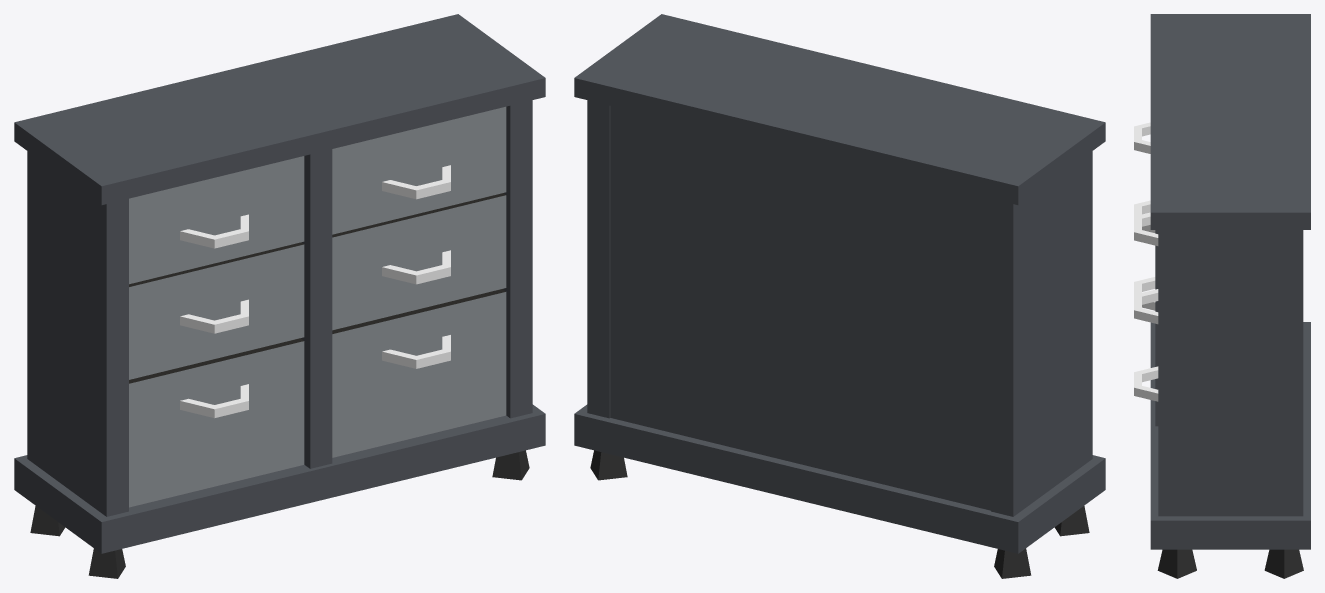
The model's file is Drawer_1C.fbx.
3 views of the same model, side by side, from view 1: azimuth 30°, elevation 25°; view 2: azimuth 150°, elevation 25°; view 3: azimuth 270°, elevation 25° (orthographic). The views are drawn at different scales.
Visible parts, largest first — view 1: polySurface1692; view 2: polySurface1692; view 3: polySurface1692.
Boxes of the visible parts, x1=… form: polySurface1692: x1=14, y1=14, x2=545, y2=578; polySurface1692: x1=574, y1=14, x2=1105, y2=578; polySurface1692: x1=1134, y1=14, x2=1310, y2=578.
Size of the model in its own units: 2.2 by 1.9 by 0.8282.
Materials: 1 (1 with a texture image).
